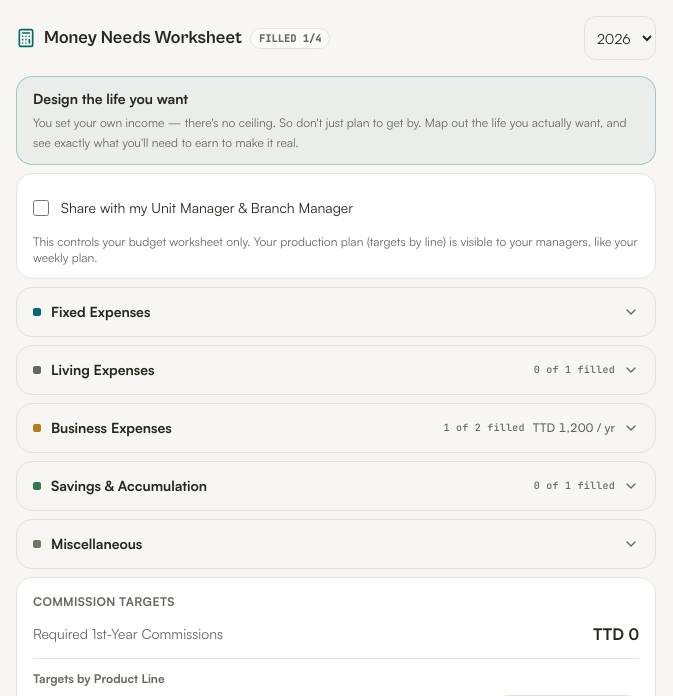
Scenario: MoneyNeedsPanel — floating calculators › filled calc-fed card: shows Recalculate button and amount input, not CTA
Expected: the heading "Money Needs Worksheet" is shown, [44,24,242,52]
Click the button "Business Expenses 1 of 2 filled TTD 1,200 / yr".
click(111, 428)  # box [17,404,655,452]
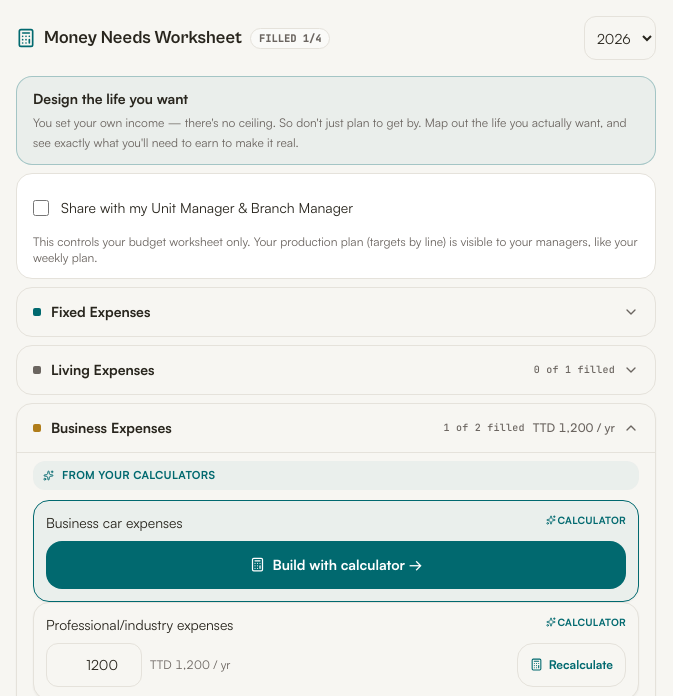
Now the button "Recalculate" is shown, box [517,642,626,686]
Now the number field named "Professional/industry expenses amount" is shown, box [46,642,142,686]
